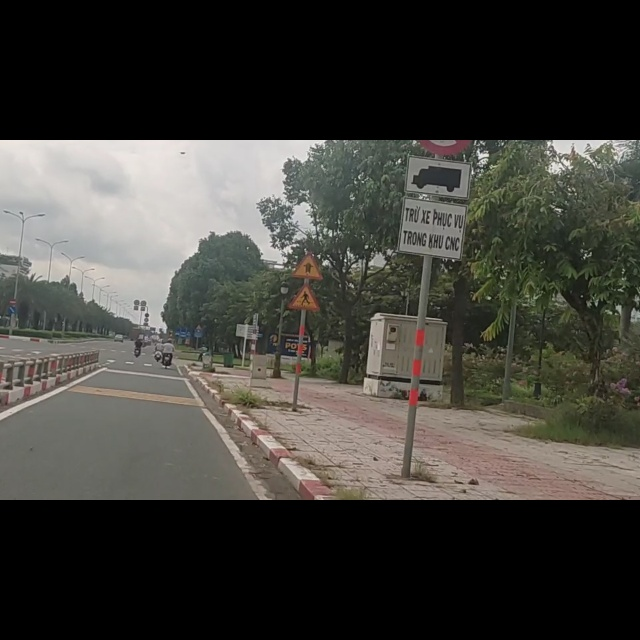bien_cam: (398, 24, 469, 212), (291, 198, 324, 251), (288, 255, 321, 303)
